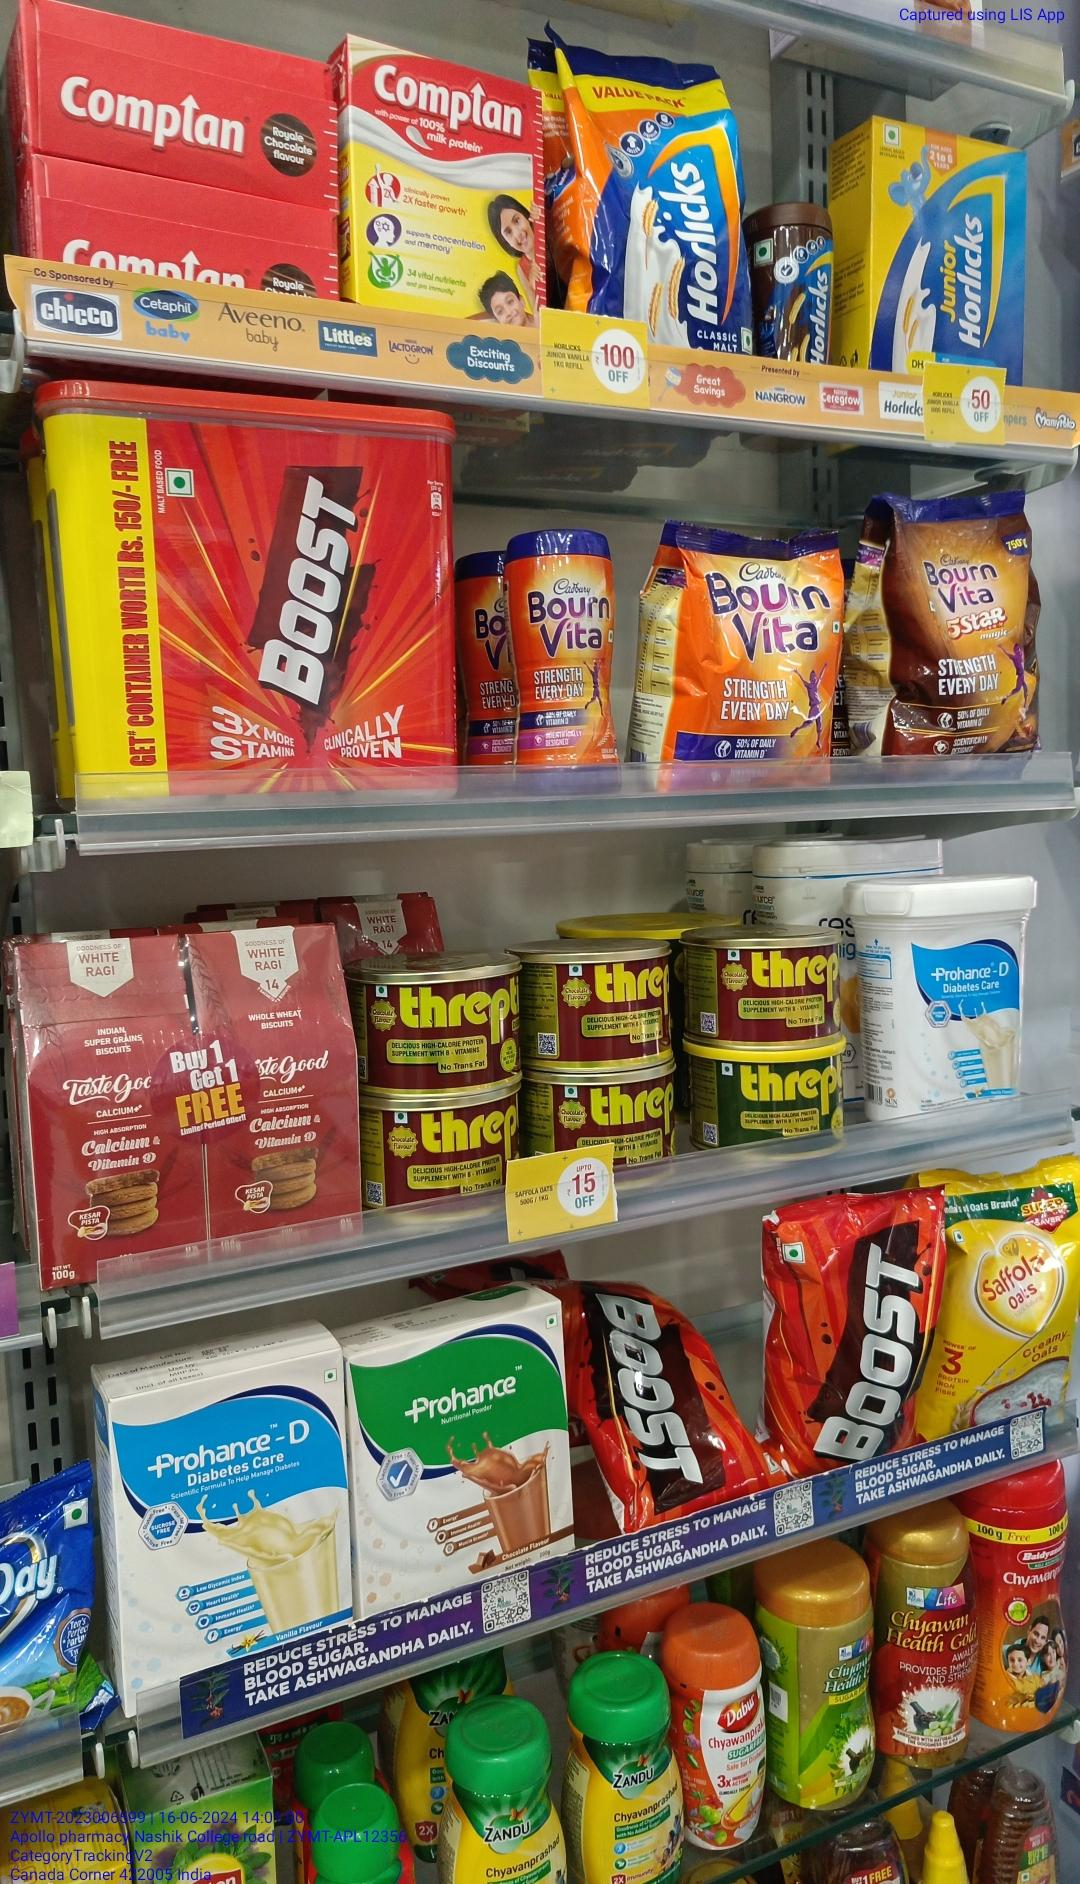BOURN_VITA_500_G_JAR: (511, 527, 620, 778)
BOURN_VITA_500_G_POUCH: (651, 521, 848, 769)
BOURN_VITA_FIVE_STAR_MAGIC_750_G_POUCH: (876, 494, 1039, 761)
HORLICK_CLASSIC_MALT_750_G_POUCH: (569, 48, 757, 323)
